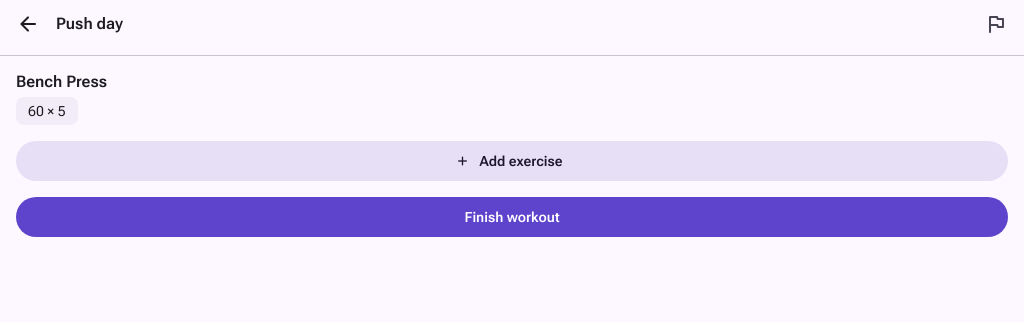
ActiveWorkoutScreen › surfaces an error banner and re-enables Finish workout when completing fails
Click the button "Finish workout": (512, 217) [16,197,1008,237]
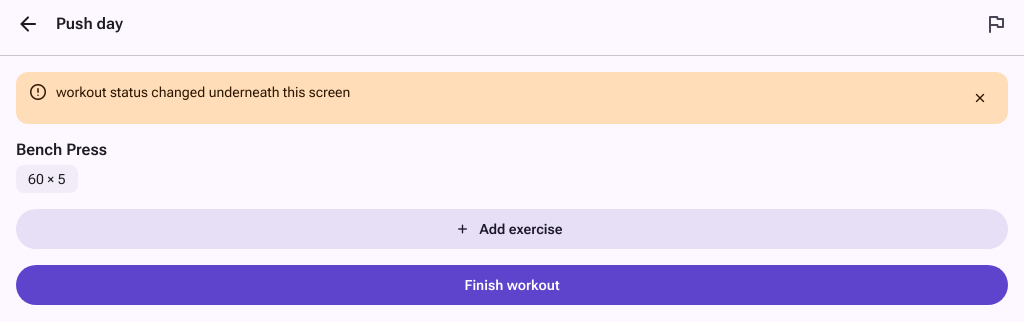
Expected: the button "Finish workout" is enabled, [16,265,1008,305]
Now the text "workout status changed underneath this screen" is shown, box [56,84,350,100]
